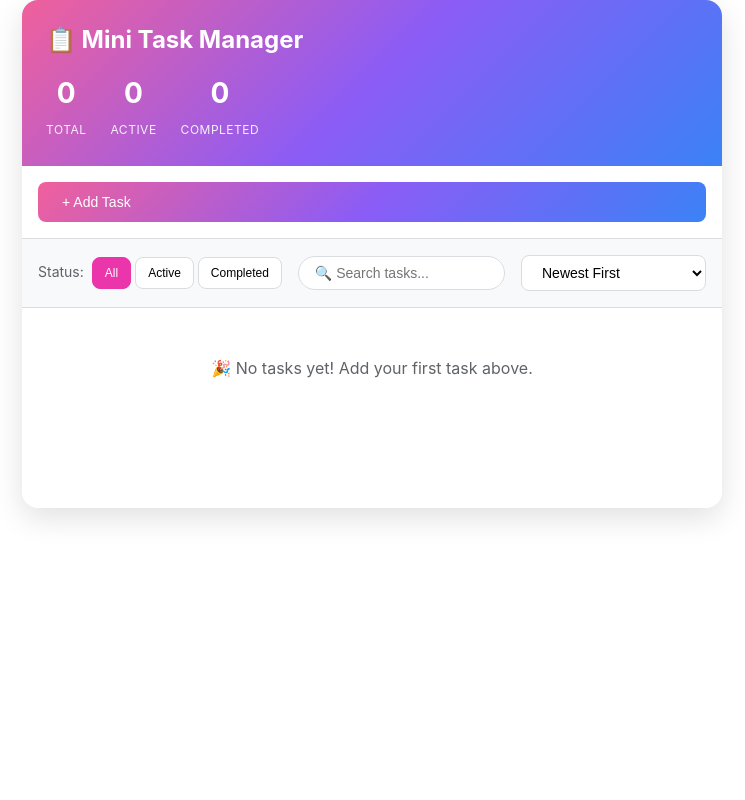
Scenario: TaskManagerComponent - Form Testing › Form Display › should show form when add button clicked
Click the button with test id "toggle-add-form" at (96, 202), box [38,182,706,222]
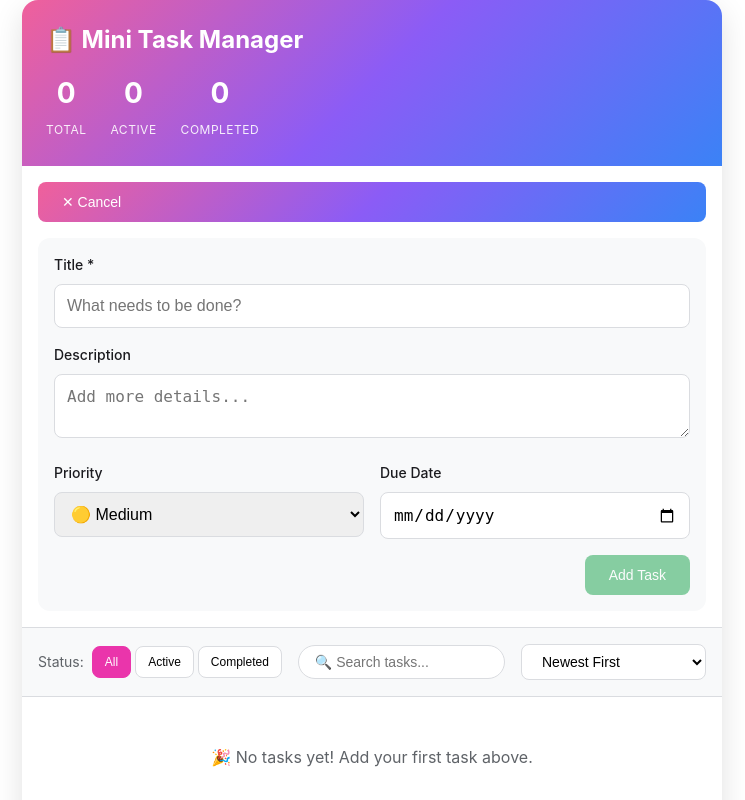
Check: the form with test id "task-form" is shown, box [38,238,706,611]
